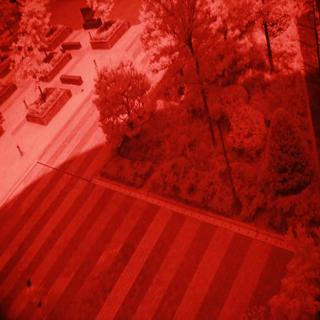person: (21, 273, 47, 320)
